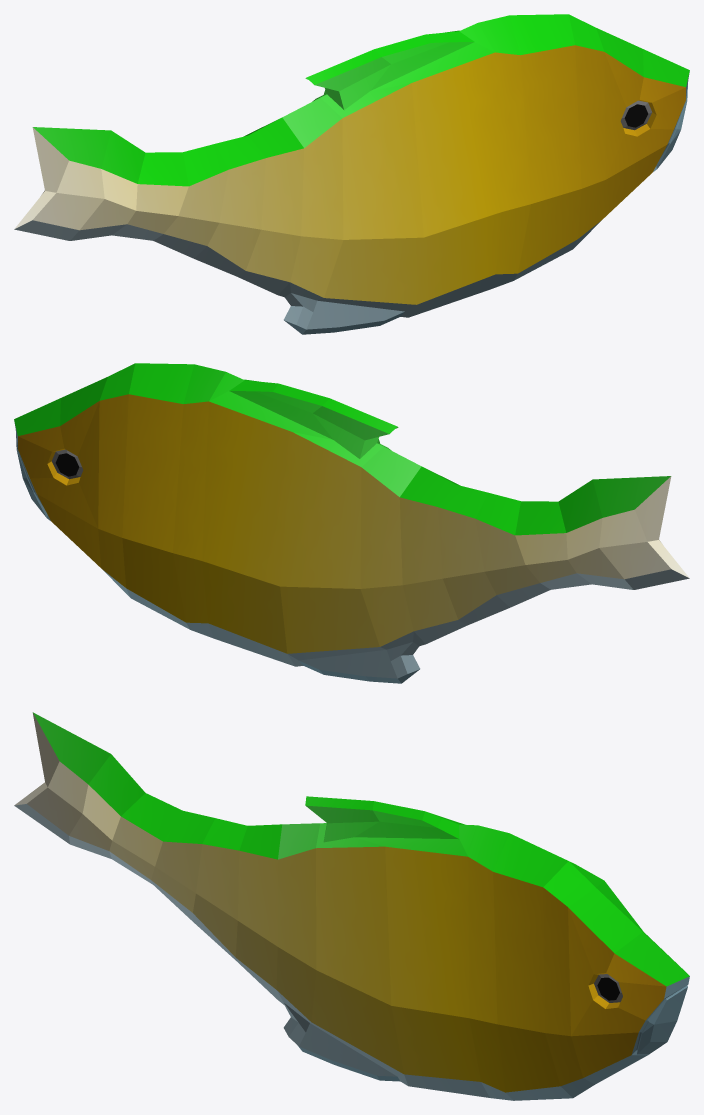
Rendered from fish_gold.glb.
3 renders of one model, top to bottom at view 1: azimuth 30°, elevation 25°; view 2: azimuth 150°, elevation 25°; view 3: azimuth 330°, elevation 25°, orthographic.
Visible parts, largest first — view 1: FishV1; view 2: FishV1; view 3: FishV1.
Part boxes in pixels (box(x1,y1,x2,y2)): FishV1: box(14, 14, 689, 334); FishV1: box(14, 363, 689, 683); FishV1: box(14, 712, 689, 1100).
Size of the model in its own units: 0.7706 by 0.3091 by 0.0722.
Materials: 1 (1 with a texture image).
